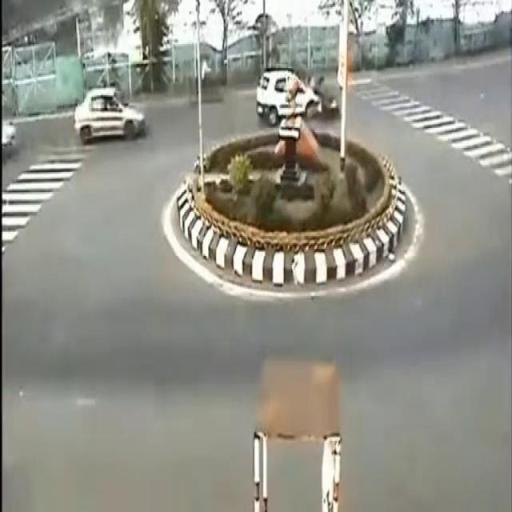小汽车: (74, 88, 144, 140)
小汽车撞自行车: (256, 69, 342, 121)
